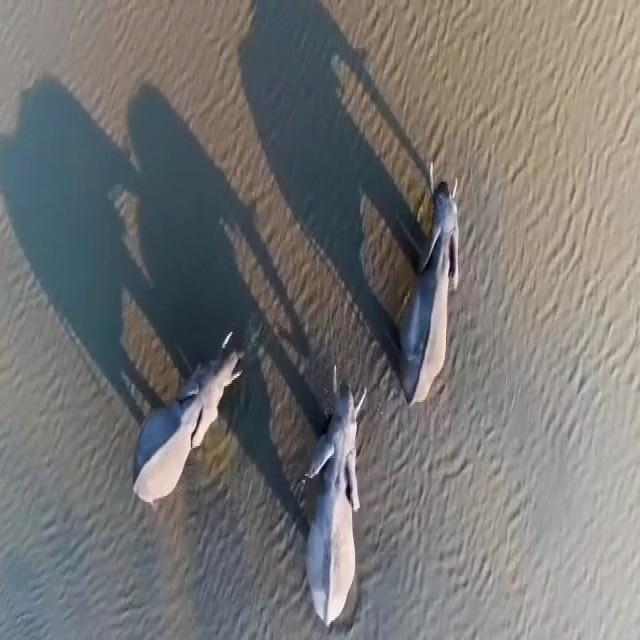Elephant: (134, 336, 247, 522), (394, 179, 480, 399), (302, 365, 372, 632)
